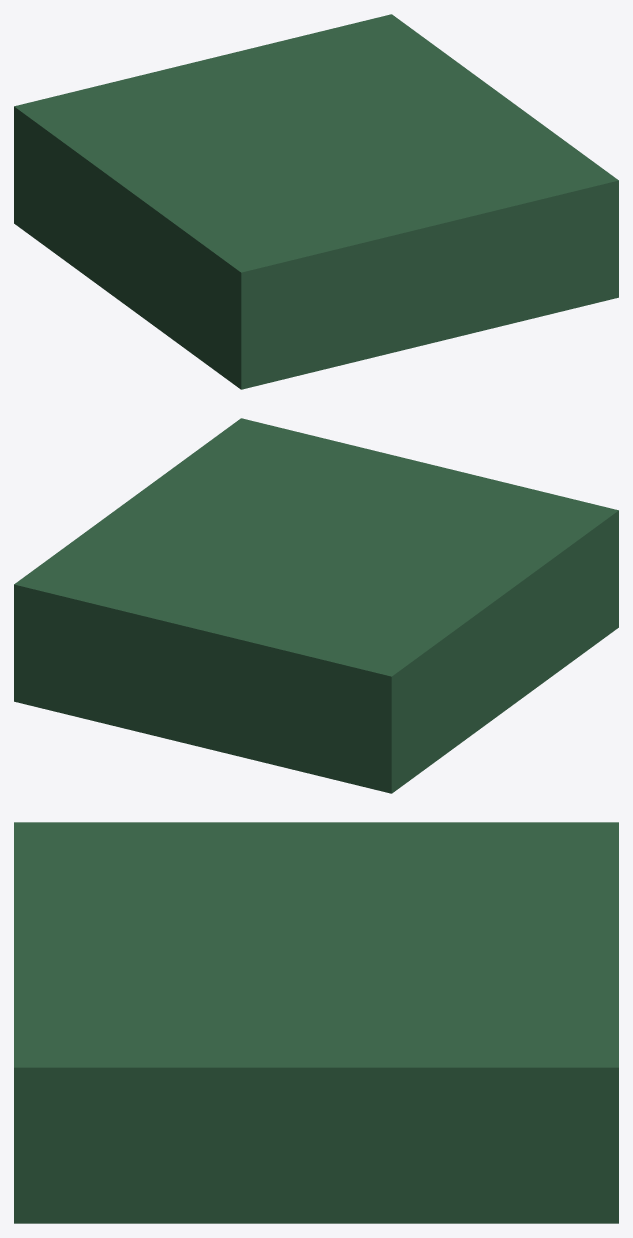
Rendered from terrain_bush_low_lod2.glb.
3 renders of one model, top to bottom at view 1: azimuth 30°, elevation 25°; view 2: azimuth 150°, elevation 25°; view 3: azimuth 270°, elevation 25°, orthographic. The views are drawn at different scales.
Parts seen in each view (by area): view 1: terrain_bush_low_lod2; view 2: terrain_bush_low_lod2; view 3: terrain_bush_low_lod2.
Boxes of the visible parts, x1,y1,x2,y2 form: terrain_bush_low_lod2: (14,14,618,389); terrain_bush_low_lod2: (14,418,618,793); terrain_bush_low_lod2: (14,822,618,1223).
Bounding box in the file's own units: 2.16 × 0.64 × 2.25.
